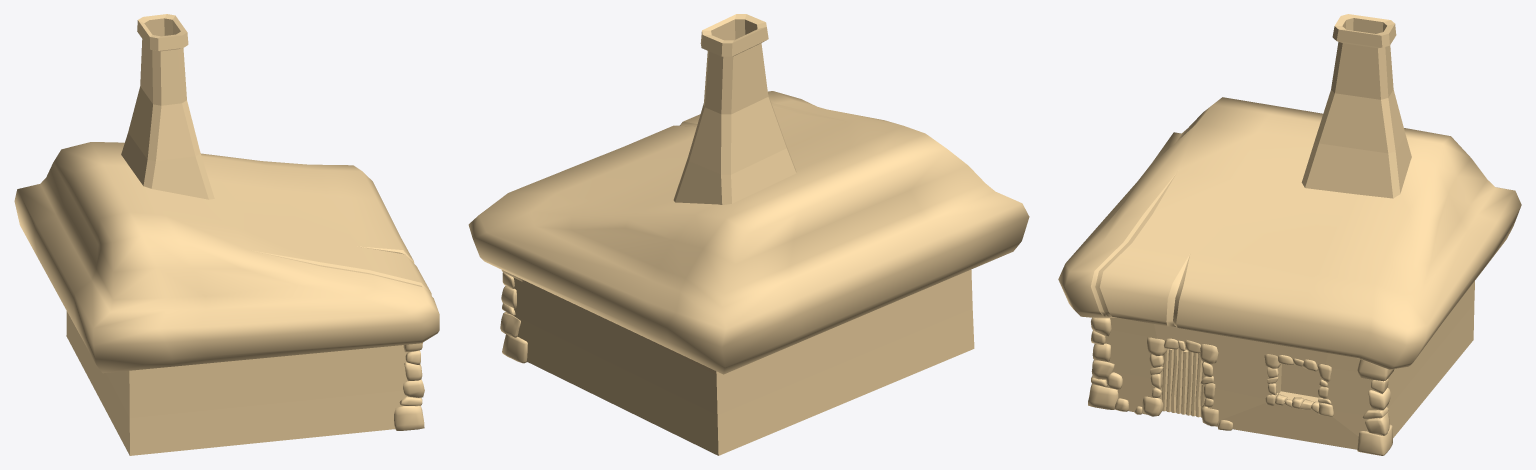
Rendered from house_2.1.fbx.
The picture shows the model from 3 angles, left to right: view 1: azimuth 30°, elevation 25°; view 2: azimuth 150°, elevation 25°; view 3: azimuth 270°, elevation 25°; orthographic projection. The views are drawn at different scales.
Parts seen in each view (by area): view 1: house_2.1; view 2: house_2.1; view 3: house_2.1.
Part boxes in pixels (bbox=[...]): house_2.1: bbox=[14, 14, 439, 455]; house_2.1: bbox=[468, 14, 1029, 455]; house_2.1: bbox=[1058, 14, 1521, 455].
Bounding box in the file's own units: 1131 × 943 × 1179.
